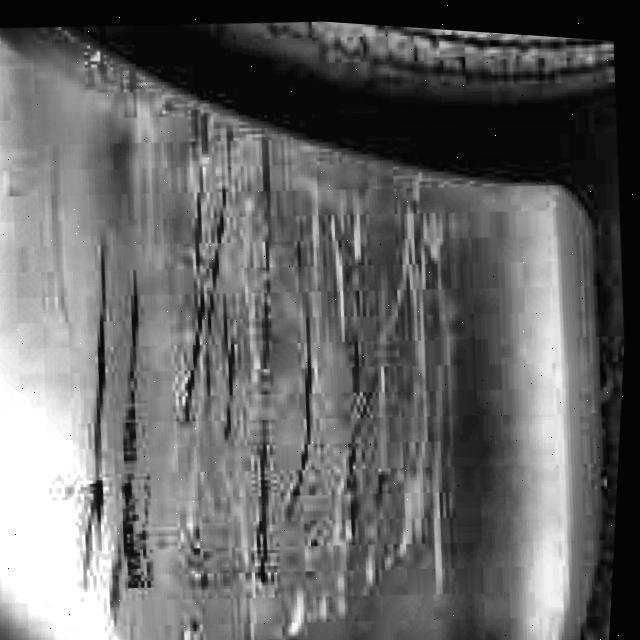bumper_scratch: (31, 41, 491, 638)
